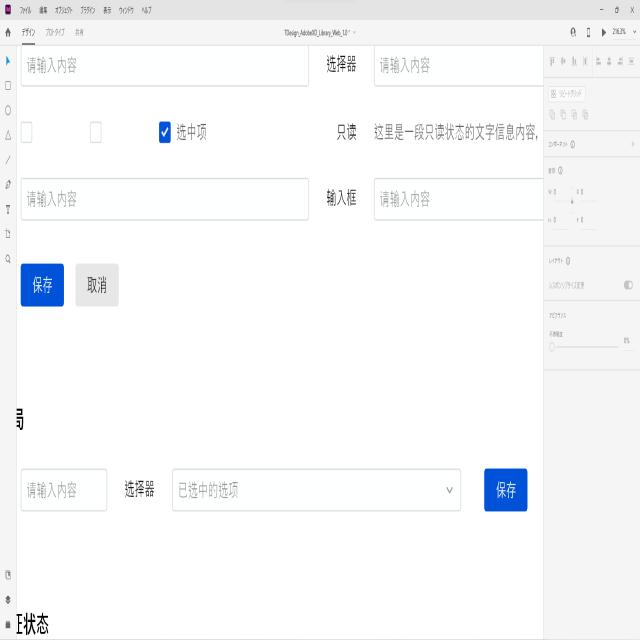checkbox: (158, 120, 171, 144)
